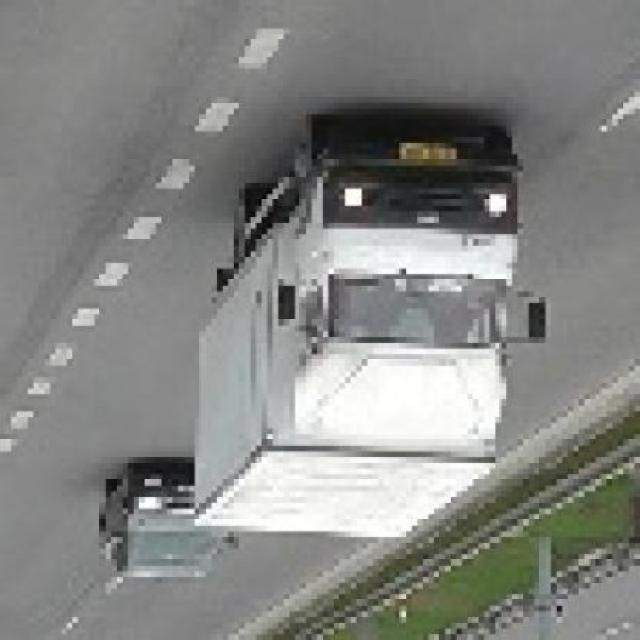truck: (201, 133, 552, 550)
